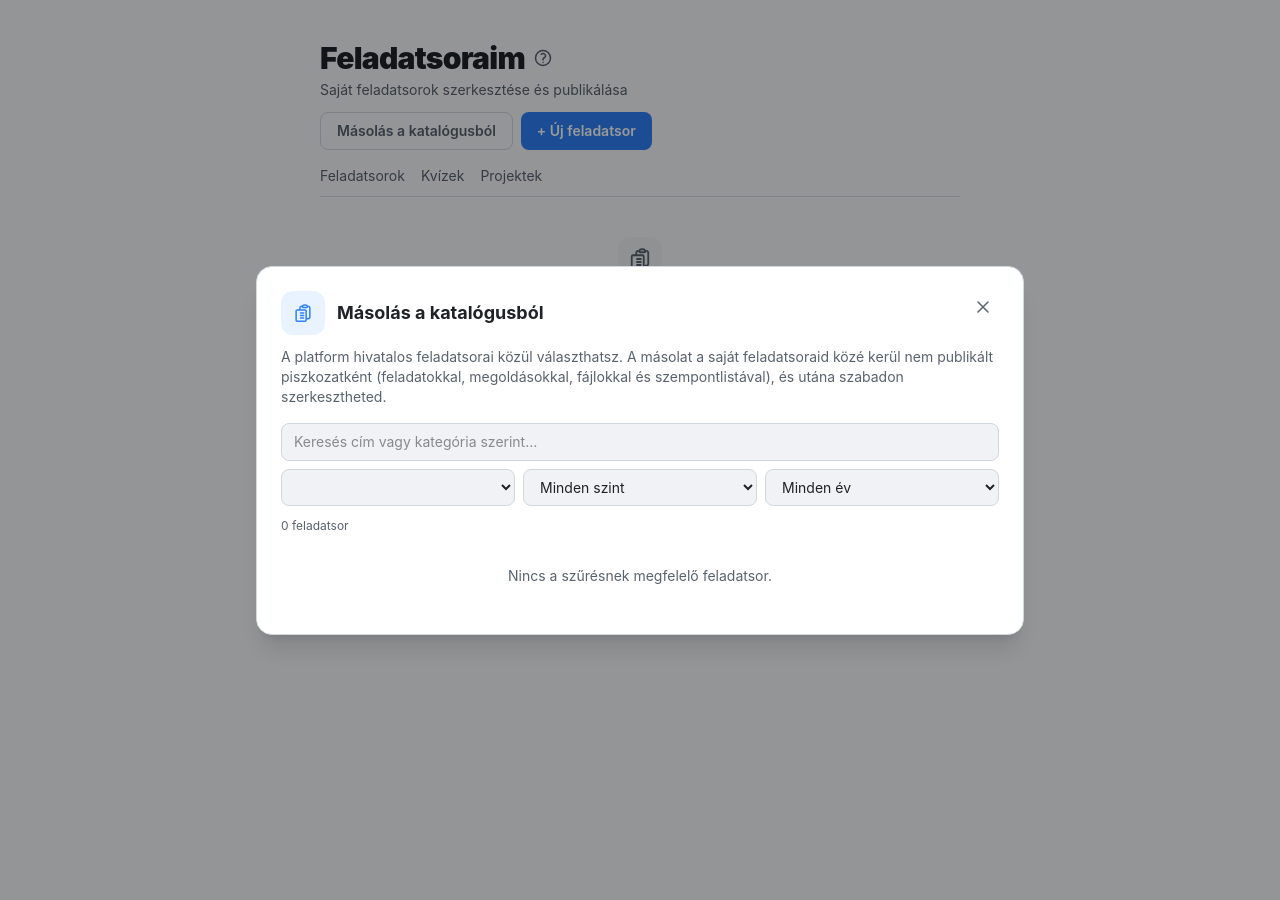
Test: FeladatsorokListaComponent › a ?katalogus=1 (a szerkesztő MI-segítő paneljéről) nyitva indítja a katalógust; bezáráskor a paraméter lekerül
The image size is (1280, 900).
Expected: the dialog with test id "catalog-dialog" is shown, left=256, top=266, right=1024, bottom=634
Click the button with test id "catalog-close": point(983, 306) left=967, top=290, right=999, bottom=322
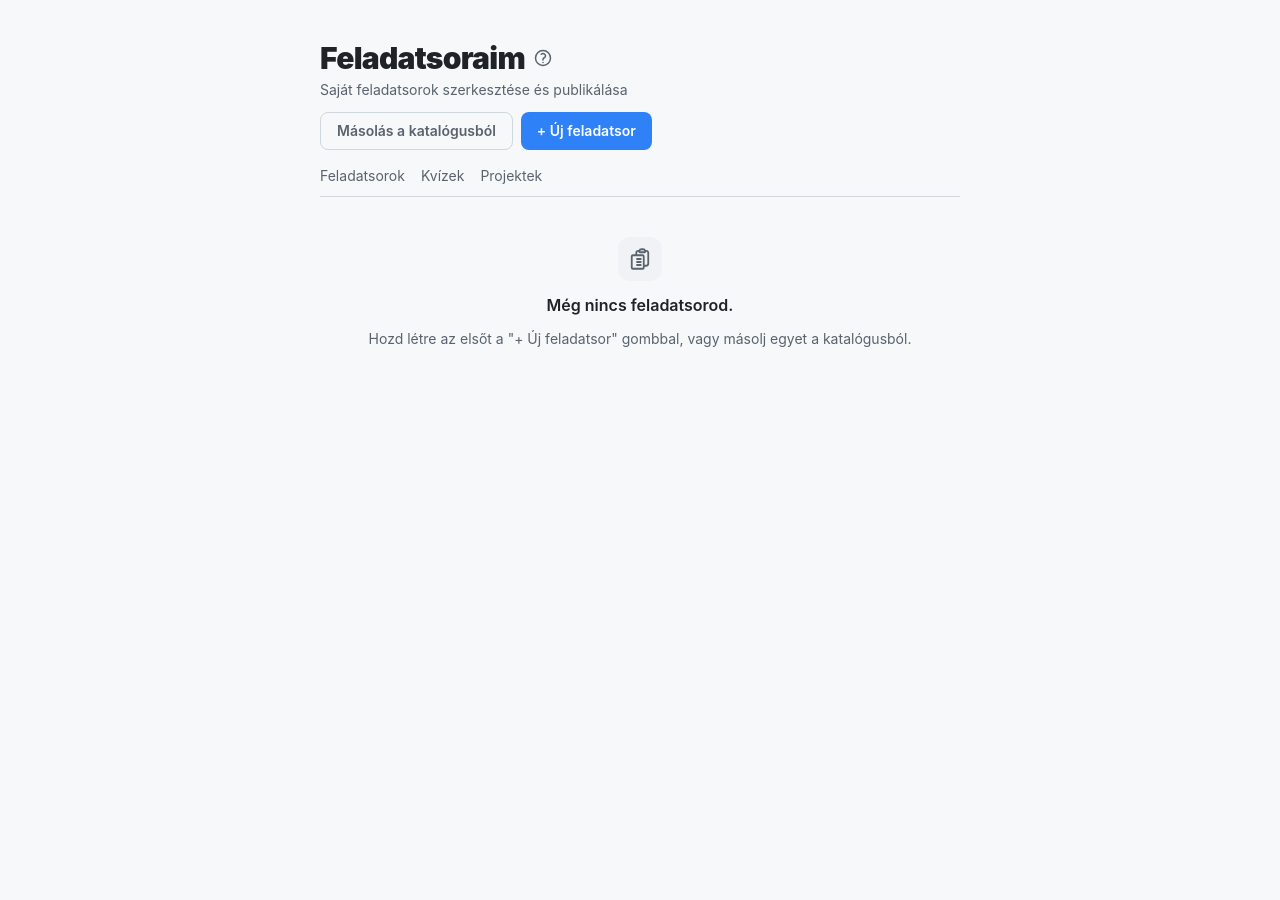
Expected: the dialog with test id "catalog-dialog" is gone
